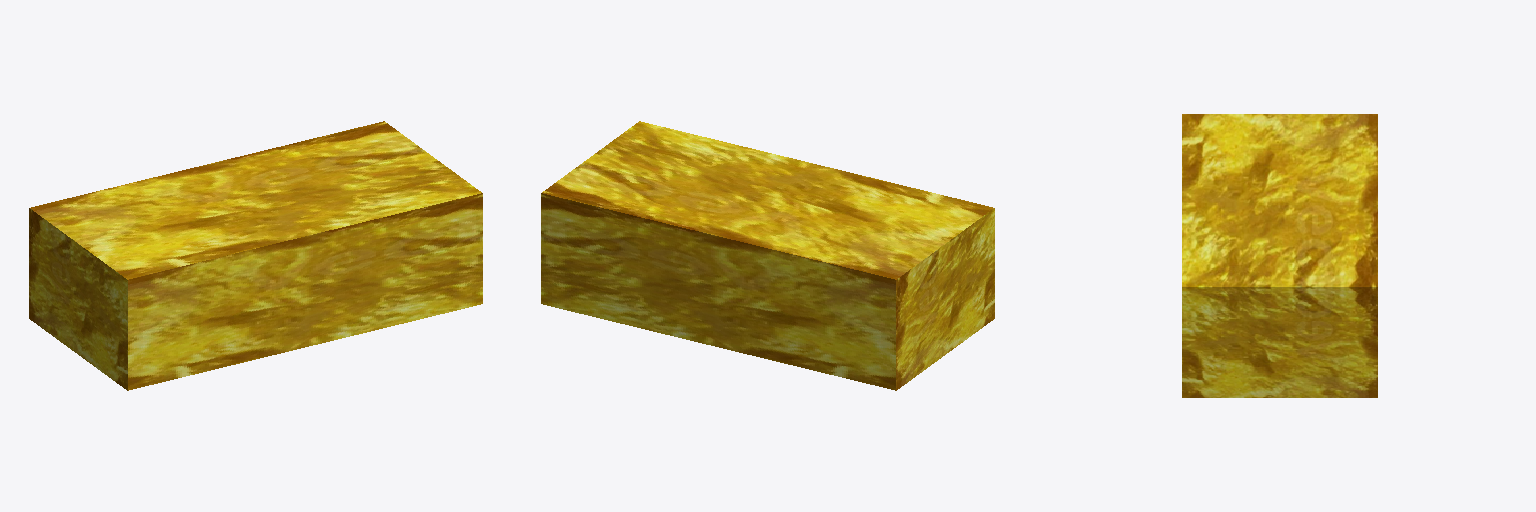
3 renders of one model, left to right at view 1: azimuth 30°, elevation 25°; view 2: azimuth 150°, elevation 25°; view 3: azimuth 270°, elevation 25°, orthographic.
Visible parts, largest first — view 1: Gold; view 2: Gold; view 3: Gold.
Part boxes in pixels (x1,y1,x2,y2): Gold: (29,121,482,390); Gold: (541,121,994,390); Gold: (1182,114,1377,397).
Bounding box in the file's own units: 0.3776 × 0.1128 × 0.1809.
Materials: 1 (1 with a texture image).